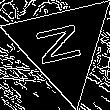N_E: (34, 20, 91, 70)
